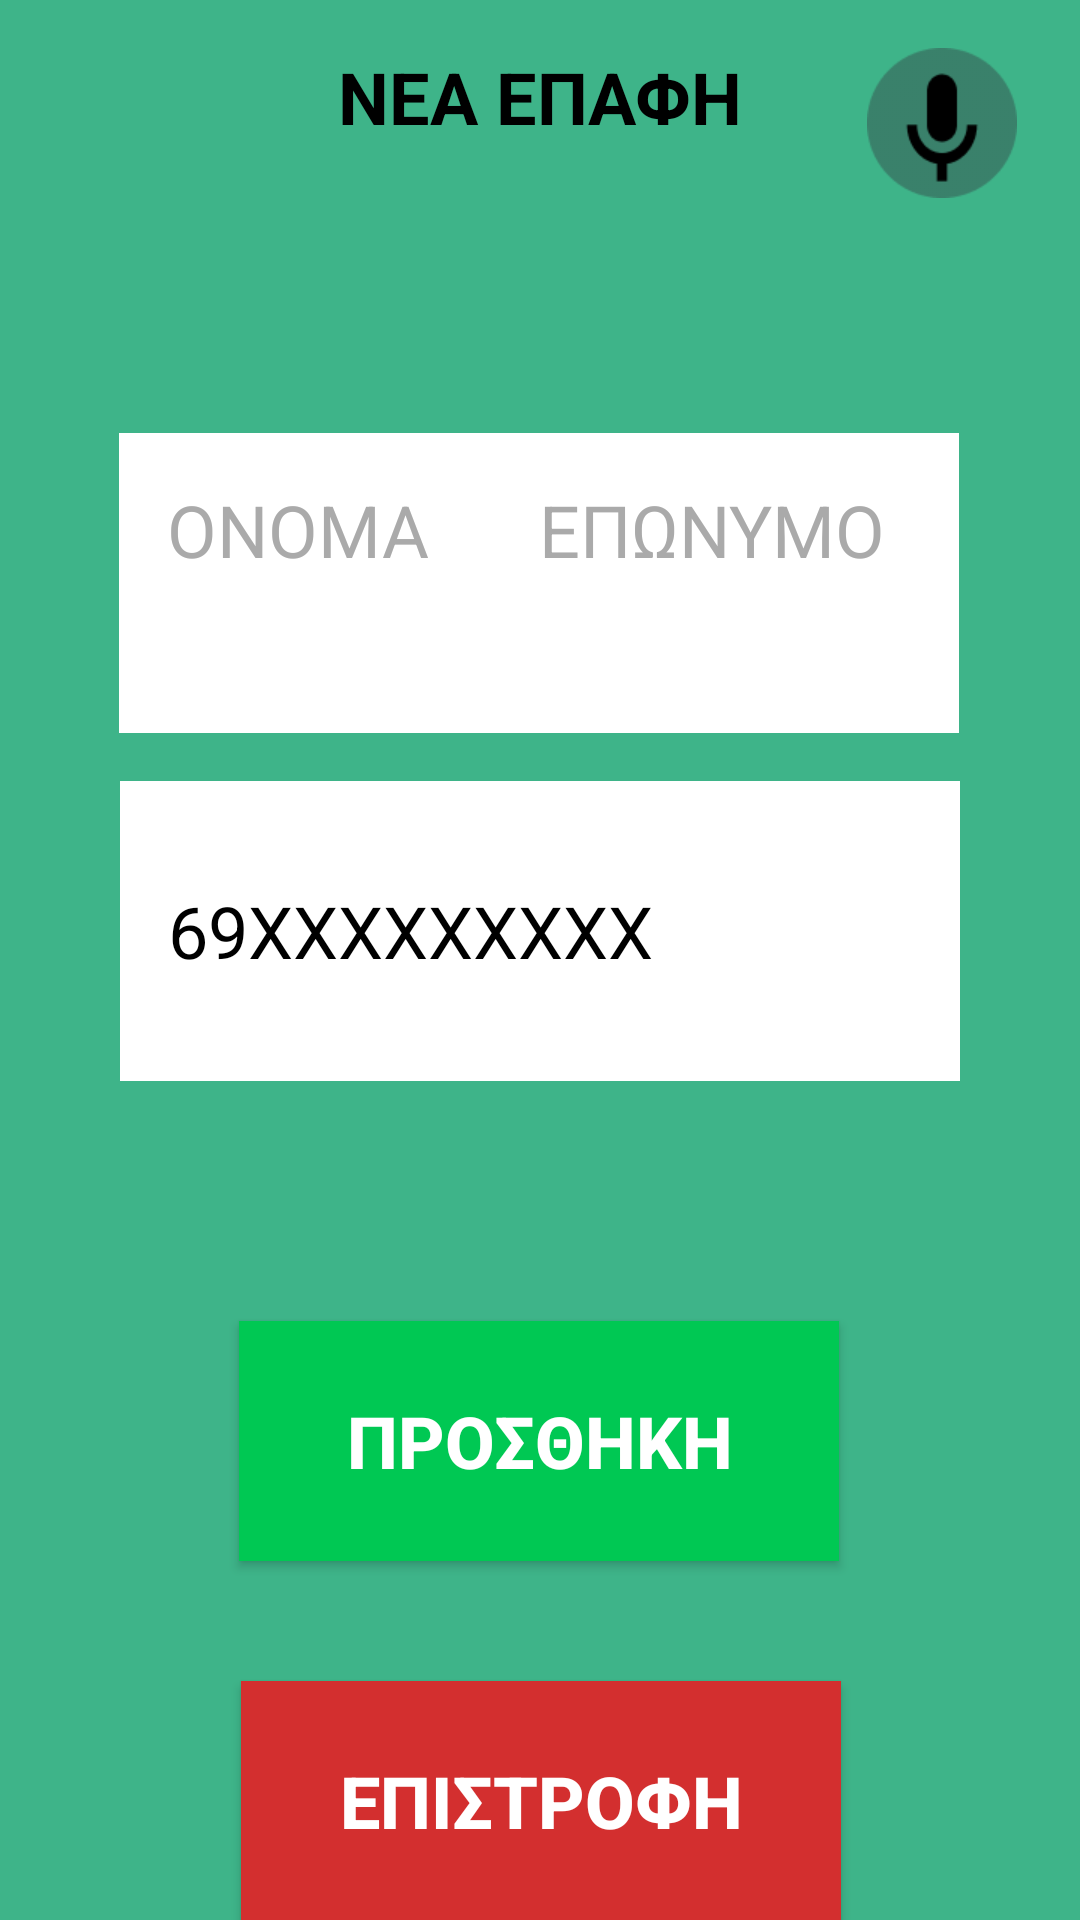

Named icons in this screenshot (1080*1920) and their bounding boxes, bbox(x1, y1, x2, y2):
Μικρόφωνο: bbox(867, 48, 1017, 198)
